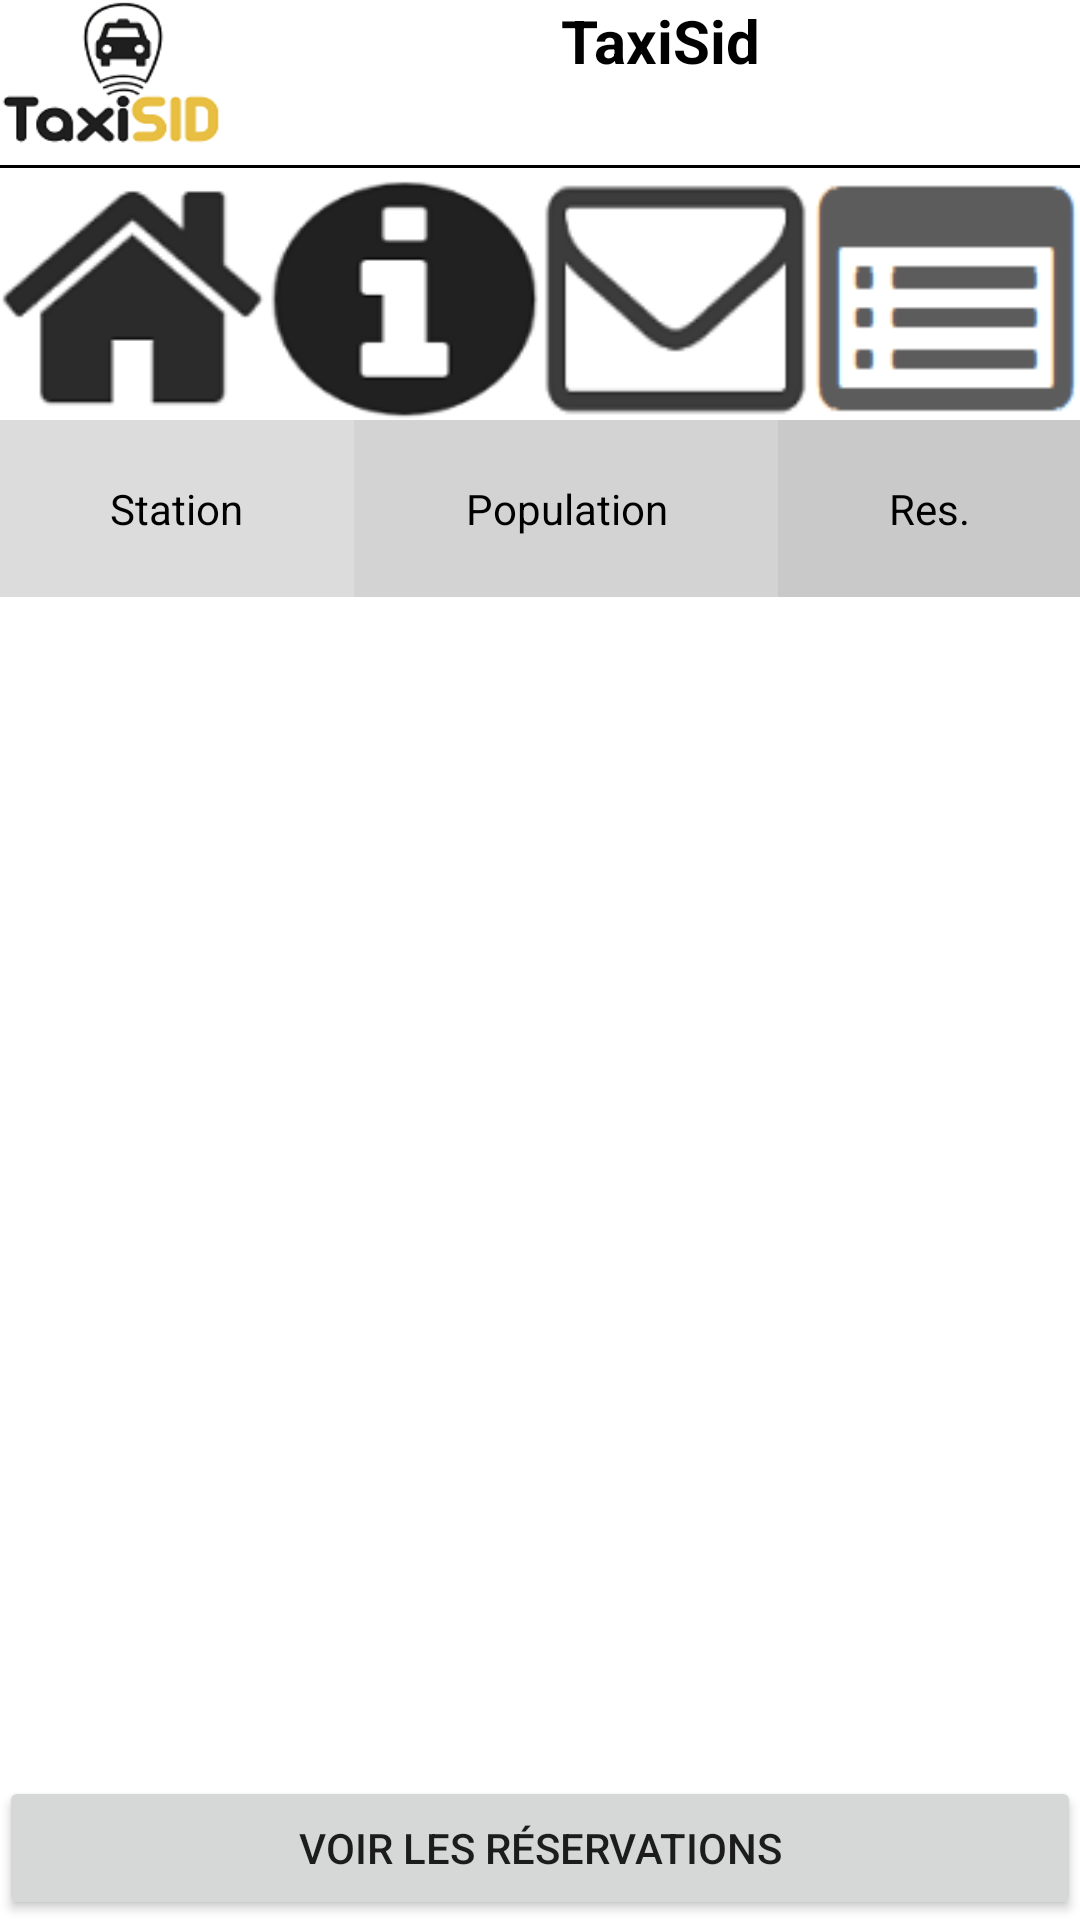

Named icons in this screenshot (1080px×1920px) and their bounding boxes, BBox(x1, y1, x2, y2):
enveloppe: BBox(545, 185, 806, 414)
home: BBox(3, 191, 262, 405)
